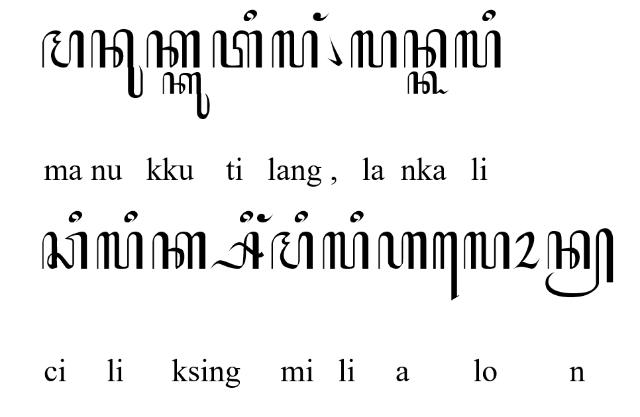-n: (544, 228, 614, 298)
_k: (406, 70, 448, 96)
_s: (208, 230, 264, 270)
c: (41, 231, 87, 271)
e1: (432, 231, 460, 301)
h: (378, 231, 428, 271)
i: (242, 9, 258, 23), (482, 8, 496, 22), (68, 210, 82, 224), (124, 209, 138, 223), (239, 209, 253, 223), (294, 211, 308, 224), (350, 210, 364, 222)
k: (146, 29, 202, 69), (152, 230, 206, 270)
kom: (326, 36, 344, 66)
ku: (162, 70, 210, 120)
l: (322, 230, 370, 270), (96, 232, 144, 271), (463, 232, 511, 271), (350, 30, 398, 68), (454, 30, 502, 68), (272, 30, 318, 68)
m: (41, 30, 85, 70), (270, 232, 314, 270)
n: (403, 30, 447, 68)
ng: (256, 212, 274, 224), (312, 12, 330, 23)
nu: (90, 29, 144, 99)
o: (514, 231, 540, 269)
t: (212, 31, 262, 69)
